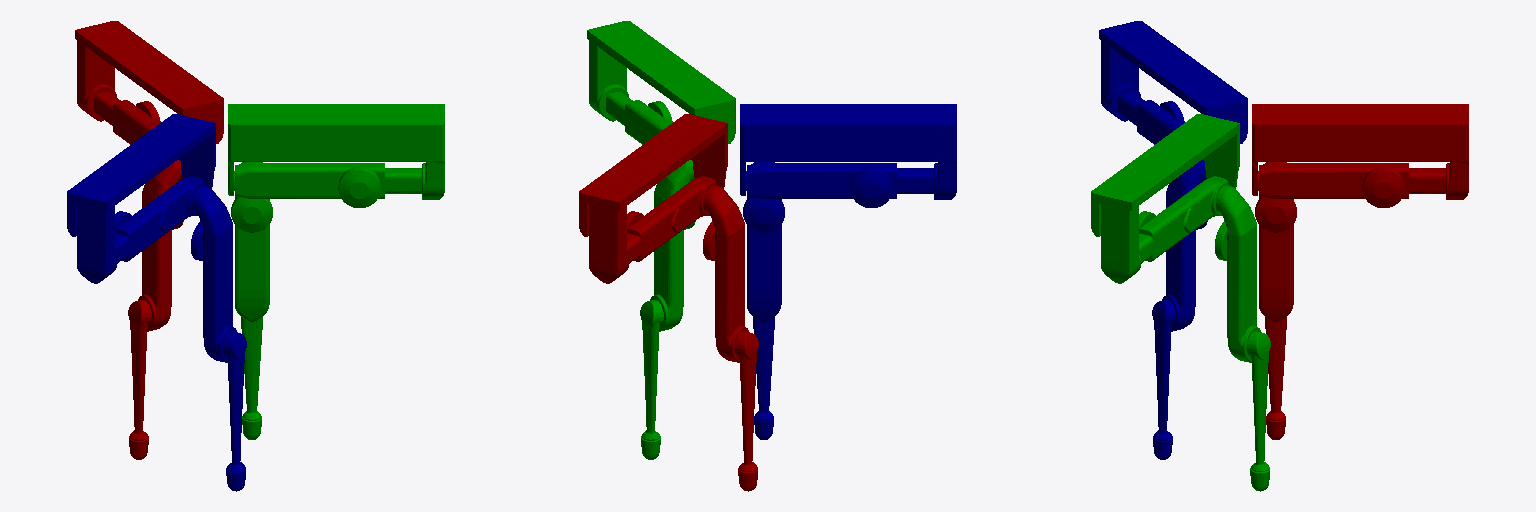
The robot description file, URDF, robot "trifingeredu":
<?xml version="1.0" encoding="utf-8"?>
<!-- =================================================================================== -->
<!-- |    This document was autogenerated by xacro from [local-path]/ws/fingers/workspace/src/catkin/robots/robot_properties/robot_properties_fingers/xacro/edu/trifingeredu.urdf.xacro | -->
<!-- |    EDITING THIS FILE BY HAND IS NOT RECOMMENDED                                 | -->
<!-- =================================================================================== -->
<robot name="trifingeredu">
  <!--
    Frames are defined such that they all align with the base frame when all
    joints are at position zero.

    In zero-configuration the origins of all joints are in one line.
    -->
  <!-- Define the global base_link and place all other objects relative to it. -->
  <link name="base_link">
    <inertial>
      <origin rpy="0 0 0" xyz="0 0 0"/>
      <mass value="1"/>
      <inertia ixx="4.16666666667e-06" ixy="0" ixz="0" iyy="4.16666666667e-06" iyz="0" izz="4.16666666667e-06"/>
    </inertial>
  </link>
  <!-- Define the upper holder -->
  <link name="trifinger_base_link">
    <inertial>
      <origin rpy="0 0 0" xyz="0 0 0"/>
      <mass value="1"/>
      <inertia ixx="4.16666666667e-06" ixy="0" ixz="0" iyy="4.16666666667e-06" iyz="0" izz="4.16666666667e-06"/>
    </inertial>
  </link>
  <joint name="base_to_trifinger_base_joint" type="fixed">
    <parent link="base_link"/>
    <child link="trifinger_base_link"/>
    <origin rpy="0 0 -1.57079632679" xyz="0 0 0.283"/>
  </joint>
  <material name="fingeredu_0_material">
    <color rgba="0.6 0.0 0.0 1.0"/>
  </material>
  <material name="fingeredu_120_material">
    <color rgba="0.0 0.6 0.0 1.0"/>
  </material>
  <material name="fingeredu_240_material">
    <color rgba="0.0 0.0 0.6 1.0"/>
  </material>
  <!--
        Fixed links for the finger base (parts where the upper link is mounted).
        -->
  <link name="finger_base_link_0">
    <visual>
      <origin rpy="0 0 0" xyz="-0.17995 0 0"/>
      <geometry>
        <mesh filename="package://robot_properties_fingers/meshes/stl/edu/base_back.obj" scale="1 1 1"/>
      </geometry>
      <material name="fingeredu_0_material"/>
    </visual>
    <collision>
      <origin rpy="0 0 0" xyz="-0.17995 0 0"/>
      <geometry>
        <mesh filename="package://robot_properties_fingers/meshes/stl/edu/base_back.obj" scale="1 1 1"/>
      </geometry>
    </collision>
    <visual>
      <origin rpy="0 0 0" xyz="0.0255 0 0"/>
      <geometry>
        <mesh filename="package://robot_properties_fingers/meshes/stl/edu/base_front.obj" scale="1 1 1"/>
      </geometry>
      <material name="fingeredu_0_material"/>
    </visual>
    <collision>
      <origin rpy="0 0 0" xyz="0.0255 0 0"/>
      <geometry>
        <mesh filename="package://robot_properties_fingers/meshes/stl/edu/base_front.obj" scale="1 1 1"/>
      </geometry>
    </collision>
    <visual>
      <origin rpy="0 0 0" xyz="0.0255 0.02 0.08"/>
      <geometry>
        <mesh filename="package://robot_properties_fingers/meshes/stl/edu/base_side_left.obj" scale="1 1 1"/>
      </geometry>
      <material name="fingeredu_0_material"/>
    </visual>
    <collision>
      <origin rpy="0 0 0" xyz="0.0255 0.02 0.08"/>
      <geometry>
        <mesh filename="package://robot_properties_fingers/meshes/stl/edu/base_side_left.obj" scale="1 1 1"/>
      </geometry>
    </collision>
    <!-- Disable this part.  It is not very relevant for collisions but
                 would cause trouble in pybullet due to its concavity.
            <xacro:add_geometry
                rpy="0 0 0"
                xyz="${offset_x_base_to_front} -0.02 ${offset_z_base_to_top}"
                mesh_file="${mesh_dir}/base_side_right.stl"
                material="${material}" />
            -->
    <visual>
      <origin rpy="0 0 0" xyz="0.0255 0 0.08"/>
      <geometry>
        <mesh filename="package://robot_properties_fingers/meshes/stl/edu/base_top.obj" scale="1 1 1"/>
      </geometry>
      <material name="fingeredu_0_material"/>
    </visual>
    <collision>
      <origin rpy="0 0 0" xyz="0.0255 0 0.08"/>
      <geometry>
        <mesh filename="package://robot_properties_fingers/meshes/stl/edu/base_top.obj" scale="1 1 1"/>
      </geometry>
    </collision>
    <inertial>
      <origin rpy="0 0 0" xyz="-0.1 0 0.4"/>
      <mass value="1"/>
      <inertia ixx="0.0608333333333" ixy="0" ixz="0" iyy="0.0566666666667" iyz="0" izz="0.0108333333333"/>
    </inertial>
  </link>
  <!-- The movable links (upper, middle and lower) of the finger. -->
  <!-- FIXME inertias are not correct! -->
  <link name="finger_upper_link_0">
    <visual>
      <origin rpy="0 0 0" xyz="0.0195 0 0"/>
      <geometry>
        <mesh filename="package://robot_properties_fingers/meshes/stl/edu/upper_link.obj" scale="1 1 1"/>
      </geometry>
      <material name="fingeredu_0_material"/>
    </visual>
    <collision>
      <origin rpy="0 0 0" xyz="0.0195 0 0"/>
      <geometry>
        <mesh filename="package://robot_properties_fingers/meshes/stl/edu/upper_link.obj" scale="1 1 1"/>
      </geometry>
    </collision>
    <inertial>
      <!-- Note: This uses the values from the middle link, assuming
                     that it is similar enough. -->
      <!-- CoM is only estimated based -->
      <origin rpy="0 0 0" xyz="-0.079 0 0"/>
      <mass value="0.14854"/>
      <inertia ixx="0.00003" ixy="0.00005" ixz="0.00000" iyy="0.00041" iyz="0.00000" izz="0.00041"/>
    </inertial>
  </link>
  <link name="finger_middle_link_0">
    <visual>
      <origin rpy="0 0 0" xyz="0 0 0"/>
      <geometry>
        <mesh filename="package://robot_properties_fingers/meshes/stl/edu/middle_link.obj" scale="1 1 1"/>
      </geometry>
      <material name="fingeredu_0_material"/>
    </visual>
    <collision>
      <origin rpy="0 0 0" xyz="0 0 0"/>
      <geometry>
        <mesh filename="package://robot_properties_fingers/meshes/stl/edu/middle_link.obj" scale="1 1 1"/>
      </geometry>
    </collision>
    <inertial>
      <origin rpy="0 0 0" xyz="0 -0.019 -0.079"/>
      <mass value="0.14854"/>
      <inertia ixx="0.00041" ixy="0.00000" ixz="0.00000" iyy="0.00041" iyz="0.00005" izz="0.00003"/>
    </inertial>
  </link>
  <link name="finger_lower_link_0">
    <visual>
      <origin rpy="0 0 0" xyz="0 0 0"/>
      <geometry>
        <mesh filename="package://robot_properties_fingers/meshes/stl/edu/lower_link.obj" scale="1 1 1"/>
      </geometry>
      <material name="fingeredu_0_material"/>
    </visual>
    <collision>
      <origin rpy="0 0 0" xyz="0 0 0"/>
      <geometry>
        <mesh filename="package://robot_properties_fingers/meshes/stl/edu/lower_link.obj" scale="1 1 1"/>
      </geometry>
    </collision>
    <!-- TODO: these are the interial values from the Solo lower leg
                 link which is similar but not exactly the same to the FingerEdu
                 lower link. -->
    <inertial>
      <origin rpy="0 0 0" xyz="0 -0.009 -0.089"/>
      <mass value="0.03070"/>
      <inertia ixx="0.00012" ixy="0.00000" ixz="0.00000" iyy="0.00012" iyz="0.00000" izz="0.00000"/>
    </inertial>
  </link>
  <!-- fixed link for finger tip -->
  <link name="finger_tip_link_0">
    <inertial>
      <origin rpy="0 0 0" xyz="0 0 0"/>
      <mass value="0.01"/>
      <inertia ixx="1.66666666667e-07" ixy="0" ixz="0" iyy="1.66666666667e-07" iyz="0" izz="1.66666666667e-07"/>
    </inertial>
  </link>
  <joint name="finger_lower_to_tip_joint_0" type="fixed">
    <parent link="finger_lower_link_0"/>
    <child link="finger_tip_link_0"/>
    <origin xyz="0 -0.008 -0.16"/>
  </joint>
  <!-- kinematics -->
  <joint name="finger_base_to_upper_joint_0" type="revolute">
    <parent link="finger_base_link_0"/>
    <child link="finger_upper_link_0"/>
    <limit effort="1000" lower="-1.57079632679" upper="1.57079632679" velocity="1000"/>
    <axis xyz="-1 0 0"/>
    <origin rpy="0 0 0" xyz="0 0 0"/>
  </joint>
  <joint name="finger_upper_to_middle_joint_0" type="revolute">
    <parent link="finger_upper_link_0"/>
    <child link="finger_middle_link_0"/>
    <limit effort="1000" lower="-1.57079632679" upper="1.57079632679" velocity="1000"/>
    <axis xyz="0 1 0"/>
    <origin rpy="0 0 0" xyz="0 -0.014 0"/>
  </joint>
  <joint name="finger_middle_to_lower_joint_0" type="revolute">
    <parent link="finger_middle_link_0"/>
    <child link="finger_lower_link_0"/>
    <limit effort="1000" lower="-3.14159265359" upper="3.14159265359" velocity="1000"/>
    <axis xyz="0 1 0"/>
    <origin rpy="0 0 0" xyz="0 -0.03745 -0.16"/>
  </joint>
  <!--
        Fixed links for the finger base (parts where the upper link is mounted).
        -->
  <link name="finger_base_link_120">
    <visual>
      <origin rpy="0 0 0" xyz="-0.17995 0 0"/>
      <geometry>
        <mesh filename="package://robot_properties_fingers/meshes/stl/edu/base_back.obj" scale="1 1 1"/>
      </geometry>
      <material name="fingeredu_120_material"/>
    </visual>
    <collision>
      <origin rpy="0 0 0" xyz="-0.17995 0 0"/>
      <geometry>
        <mesh filename="package://robot_properties_fingers/meshes/stl/edu/base_back.obj" scale="1 1 1"/>
      </geometry>
    </collision>
    <visual>
      <origin rpy="0 0 0" xyz="0.0255 0 0"/>
      <geometry>
        <mesh filename="package://robot_properties_fingers/meshes/stl/edu/base_front.obj" scale="1 1 1"/>
      </geometry>
      <material name="fingeredu_120_material"/>
    </visual>
    <collision>
      <origin rpy="0 0 0" xyz="0.0255 0 0"/>
      <geometry>
        <mesh filename="package://robot_properties_fingers/meshes/stl/edu/base_front.obj" scale="1 1 1"/>
      </geometry>
    </collision>
    <visual>
      <origin rpy="0 0 0" xyz="0.0255 0.02 0.08"/>
      <geometry>
        <mesh filename="package://robot_properties_fingers/meshes/stl/edu/base_side_left.obj" scale="1 1 1"/>
      </geometry>
      <material name="fingeredu_120_material"/>
    </visual>
    <collision>
      <origin rpy="0 0 0" xyz="0.0255 0.02 0.08"/>
      <geometry>
        <mesh filename="package://robot_properties_fingers/meshes/stl/edu/base_side_left.obj" scale="1 1 1"/>
      </geometry>
    </collision>
    <!-- Disable this part.  It is not very relevant for collisions but
                 would cause trouble in pybullet due to its concavity.
            <xacro:add_geometry
                rpy="0 0 0"
                xyz="${offset_x_base_to_front} -0.02 ${offset_z_base_to_top}"
                mesh_file="${mesh_dir}/base_side_right.stl"
                material="${material}" />
            -->
    <visual>
      <origin rpy="0 0 0" xyz="0.0255 0 0.08"/>
      <geometry>
        <mesh filename="package://robot_properties_fingers/meshes/stl/edu/base_top.obj" scale="1 1 1"/>
      </geometry>
      <material name="fingeredu_120_material"/>
    </visual>
    <collision>
      <origin rpy="0 0 0" xyz="0.0255 0 0.08"/>
      <geometry>
        <mesh filename="package://robot_properties_fingers/meshes/stl/edu/base_top.obj" scale="1 1 1"/>
      </geometry>
    </collision>
    <inertial>
      <origin rpy="0 0 0" xyz="-0.1 0 0.4"/>
      <mass value="1"/>
      <inertia ixx="0.0608333333333" ixy="0" ixz="0" iyy="0.0566666666667" iyz="0" izz="0.0108333333333"/>
    </inertial>
  </link>
  <!-- The movable links (upper, middle and lower) of the finger. -->
  <!-- FIXME inertias are not correct! -->
  <link name="finger_upper_link_120">
    <visual>
      <origin rpy="0 0 0" xyz="0.0195 0 0"/>
      <geometry>
        <mesh filename="package://robot_properties_fingers/meshes/stl/edu/upper_link.obj" scale="1 1 1"/>
      </geometry>
      <material name="fingeredu_120_material"/>
    </visual>
    <collision>
      <origin rpy="0 0 0" xyz="0.0195 0 0"/>
      <geometry>
        <mesh filename="package://robot_properties_fingers/meshes/stl/edu/upper_link.obj" scale="1 1 1"/>
      </geometry>
    </collision>
    <inertial>
      <!-- Note: This uses the values from the middle link, assuming
                     that it is similar enough. -->
      <!-- CoM is only estimated based -->
      <origin rpy="0 0 0" xyz="-0.079 0 0"/>
      <mass value="0.14854"/>
      <inertia ixx="0.00003" ixy="0.00005" ixz="0.00000" iyy="0.00041" iyz="0.00000" izz="0.00041"/>
    </inertial>
  </link>
  <link name="finger_middle_link_120">
    <visual>
      <origin rpy="0 0 0" xyz="0 0 0"/>
      <geometry>
        <mesh filename="package://robot_properties_fingers/meshes/stl/edu/middle_link.obj" scale="1 1 1"/>
      </geometry>
      <material name="fingeredu_120_material"/>
    </visual>
    <collision>
      <origin rpy="0 0 0" xyz="0 0 0"/>
      <geometry>
        <mesh filename="package://robot_properties_fingers/meshes/stl/edu/middle_link.obj" scale="1 1 1"/>
      </geometry>
    </collision>
    <inertial>
      <origin rpy="0 0 0" xyz="0 -0.019 -0.079"/>
      <mass value="0.14854"/>
      <inertia ixx="0.00041" ixy="0.00000" ixz="0.00000" iyy="0.00041" iyz="0.00005" izz="0.00003"/>
    </inertial>
  </link>
  <link name="finger_lower_link_120">
    <visual>
      <origin rpy="0 0 0" xyz="0 0 0"/>
      <geometry>
        <mesh filename="package://robot_properties_fingers/meshes/stl/edu/lower_link.obj" scale="1 1 1"/>
      </geometry>
      <material name="fingeredu_120_material"/>
    </visual>
    <collision>
      <origin rpy="0 0 0" xyz="0 0 0"/>
      <geometry>
        <mesh filename="package://robot_properties_fingers/meshes/stl/edu/lower_link.obj" scale="1 1 1"/>
      </geometry>
    </collision>
    <!-- TODO: these are the interial values from the Solo lower leg
                 link which is similar but not exactly the same to the FingerEdu
                 lower link. -->
    <inertial>
      <origin rpy="0 0 0" xyz="0 -0.009 -0.089"/>
      <mass value="0.03070"/>
      <inertia ixx="0.00012" ixy="0.00000" ixz="0.00000" iyy="0.00012" iyz="0.00000" izz="0.00000"/>
    </inertial>
  </link>
  <!-- fixed link for finger tip -->
  <link name="finger_tip_link_120">
    <inertial>
      <origin rpy="0 0 0" xyz="0 0 0"/>
      <mass value="0.01"/>
      <inertia ixx="1.66666666667e-07" ixy="0" ixz="0" iyy="1.66666666667e-07" iyz="0" izz="1.66666666667e-07"/>
    </inertial>
  </link>
  <joint name="finger_lower_to_tip_joint_120" type="fixed">
    <parent link="finger_lower_link_120"/>
    <child link="finger_tip_link_120"/>
    <origin xyz="0 -0.008 -0.16"/>
  </joint>
  <!-- kinematics -->
  <joint name="finger_base_to_upper_joint_120" type="revolute">
    <parent link="finger_base_link_120"/>
    <child link="finger_upper_link_120"/>
    <limit effort="1000" lower="-1.57079632679" upper="1.57079632679" velocity="1000"/>
    <axis xyz="-1 0 0"/>
    <origin rpy="0 0 0" xyz="0 0 0"/>
  </joint>
  <joint name="finger_upper_to_middle_joint_120" type="revolute">
    <parent link="finger_upper_link_120"/>
    <child link="finger_middle_link_120"/>
    <limit effort="1000" lower="-1.57079632679" upper="1.57079632679" velocity="1000"/>
    <axis xyz="0 1 0"/>
    <origin rpy="0 0 0" xyz="0 -0.014 0"/>
  </joint>
  <joint name="finger_middle_to_lower_joint_120" type="revolute">
    <parent link="finger_middle_link_120"/>
    <child link="finger_lower_link_120"/>
    <limit effort="1000" lower="-3.14159265359" upper="3.14159265359" velocity="1000"/>
    <axis xyz="0 1 0"/>
    <origin rpy="0 0 0" xyz="0 -0.03745 -0.16"/>
  </joint>
  <!--
        Fixed links for the finger base (parts where the upper link is mounted).
        -->
  <link name="finger_base_link_240">
    <visual>
      <origin rpy="0 0 0" xyz="-0.17995 0 0"/>
      <geometry>
        <mesh filename="package://robot_properties_fingers/meshes/stl/edu/base_back.obj" scale="1 1 1"/>
      </geometry>
      <material name="fingeredu_240_material"/>
    </visual>
    <collision>
      <origin rpy="0 0 0" xyz="-0.17995 0 0"/>
      <geometry>
        <mesh filename="package://robot_properties_fingers/meshes/stl/edu/base_back.obj" scale="1 1 1"/>
      </geometry>
    </collision>
    <visual>
      <origin rpy="0 0 0" xyz="0.0255 0 0"/>
      <geometry>
        <mesh filename="package://robot_properties_fingers/meshes/stl/edu/base_front.obj" scale="1 1 1"/>
      </geometry>
      <material name="fingeredu_240_material"/>
    </visual>
    <collision>
      <origin rpy="0 0 0" xyz="0.0255 0 0"/>
      <geometry>
        <mesh filename="package://robot_properties_fingers/meshes/stl/edu/base_front.obj" scale="1 1 1"/>
      </geometry>
    </collision>
    <visual>
      <origin rpy="0 0 0" xyz="0.0255 0.02 0.08"/>
      <geometry>
        <mesh filename="package://robot_properties_fingers/meshes/stl/edu/base_side_left.obj" scale="1 1 1"/>
      </geometry>
      <material name="fingeredu_240_material"/>
    </visual>
    <collision>
      <origin rpy="0 0 0" xyz="0.0255 0.02 0.08"/>
      <geometry>
        <mesh filename="package://robot_properties_fingers/meshes/stl/edu/base_side_left.obj" scale="1 1 1"/>
      </geometry>
    </collision>
    <!-- Disable this part.  It is not very relevant for collisions but
                 would cause trouble in pybullet due to its concavity.
            <xacro:add_geometry
                rpy="0 0 0"
                xyz="${offset_x_base_to_front} -0.02 ${offset_z_base_to_top}"
                mesh_file="${mesh_dir}/base_side_right.stl"
                material="${material}" />
            -->
    <visual>
      <origin rpy="0 0 0" xyz="0.0255 0 0.08"/>
      <geometry>
        <mesh filename="package://robot_properties_fingers/meshes/stl/edu/base_top.obj" scale="1 1 1"/>
      </geometry>
      <material name="fingeredu_240_material"/>
    </visual>
    <collision>
      <origin rpy="0 0 0" xyz="0.0255 0 0.08"/>
      <geometry>
        <mesh filename="package://robot_properties_fingers/meshes/stl/edu/base_top.obj" scale="1 1 1"/>
      </geometry>
    </collision>
    <inertial>
      <origin rpy="0 0 0" xyz="-0.1 0 0.4"/>
      <mass value="1"/>
      <inertia ixx="0.0608333333333" ixy="0" ixz="0" iyy="0.0566666666667" iyz="0" izz="0.0108333333333"/>
    </inertial>
  </link>
  <!-- The movable links (upper, middle and lower) of the finger. -->
  <!-- FIXME inertias are not correct! -->
  <link name="finger_upper_link_240">
    <visual>
      <origin rpy="0 0 0" xyz="0.0195 0 0"/>
      <geometry>
        <mesh filename="package://robot_properties_fingers/meshes/stl/edu/upper_link.obj" scale="1 1 1"/>
      </geometry>
      <material name="fingeredu_240_material"/>
    </visual>
    <collision>
      <origin rpy="0 0 0" xyz="0.0195 0 0"/>
      <geometry>
        <mesh filename="package://robot_properties_fingers/meshes/stl/edu/upper_link.obj" scale="1 1 1"/>
      </geometry>
    </collision>
    <inertial>
      <!-- Note: This uses the values from the middle link, assuming
                     that it is similar enough. -->
      <!-- CoM is only estimated based -->
      <origin rpy="0 0 0" xyz="-0.079 0 0"/>
      <mass value="0.14854"/>
      <inertia ixx="0.00003" ixy="0.00005" ixz="0.00000" iyy="0.00041" iyz="0.00000" izz="0.00041"/>
    </inertial>
  </link>
  <link name="finger_middle_link_240">
    <visual>
      <origin rpy="0 0 0" xyz="0 0 0"/>
      <geometry>
        <mesh filename="package://robot_properties_fingers/meshes/stl/edu/middle_link.obj" scale="1 1 1"/>
      </geometry>
      <material name="fingeredu_240_material"/>
    </visual>
    <collision>
      <origin rpy="0 0 0" xyz="0 0 0"/>
      <geometry>
        <mesh filename="package://robot_properties_fingers/meshes/stl/edu/middle_link.obj" scale="1 1 1"/>
      </geometry>
    </collision>
    <inertial>
      <origin rpy="0 0 0" xyz="0 -0.019 -0.079"/>
      <mass value="0.14854"/>
      <inertia ixx="0.00041" ixy="0.00000" ixz="0.00000" iyy="0.00041" iyz="0.00005" izz="0.00003"/>
    </inertial>
  </link>
  <link name="finger_lower_link_240">
    <visual>
      <origin rpy="0 0 0" xyz="0 0 0"/>
      <geometry>
        <mesh filename="package://robot_properties_fingers/meshes/stl/edu/lower_link.obj" scale="1 1 1"/>
      </geometry>
      <material name="fingeredu_240_material"/>
    </visual>
    <collision>
      <origin rpy="0 0 0" xyz="0 0 0"/>
      <geometry>
        <mesh filename="package://robot_properties_fingers/meshes/stl/edu/lower_link.obj" scale="1 1 1"/>
      </geometry>
    </collision>
    <!-- TODO: these are the interial values from the Solo lower leg
                 link which is similar but not exactly the same to the FingerEdu
                 lower link. -->
    <inertial>
      <origin rpy="0 0 0" xyz="0 -0.009 -0.089"/>
      <mass value="0.03070"/>
      <inertia ixx="0.00012" ixy="0.00000" ixz="0.00000" iyy="0.00012" iyz="0.00000" izz="0.00000"/>
    </inertial>
  </link>
  <!-- fixed link for finger tip -->
  <link name="finger_tip_link_240">
    <inertial>
      <origin rpy="0 0 0" xyz="0 0 0"/>
      <mass value="0.01"/>
      <inertia ixx="1.66666666667e-07" ixy="0" ixz="0" iyy="1.66666666667e-07" iyz="0" izz="1.66666666667e-07"/>
    </inertial>
  </link>
  <joint name="finger_lower_to_tip_joint_240" type="fixed">
    <parent link="finger_lower_link_240"/>
    <child link="finger_tip_link_240"/>
    <origin xyz="0 -0.008 -0.16"/>
  </joint>
  <!-- kinematics -->
  <joint name="finger_base_to_upper_joint_240" type="revolute">
    <parent link="finger_base_link_240"/>
    <child link="finger_upper_link_240"/>
    <limit effort="1000" lower="-1.57079632679" upper="1.57079632679" velocity="1000"/>
    <axis xyz="-1 0 0"/>
    <origin rpy="0 0 0" xyz="0 0 0"/>
  </joint>
  <joint name="finger_upper_to_middle_joint_240" type="revolute">
    <parent link="finger_upper_link_240"/>
    <child link="finger_middle_link_240"/>
    <limit effort="1000" lower="-1.57079632679" upper="1.57079632679" velocity="1000"/>
    <axis xyz="0 1 0"/>
    <origin rpy="0 0 0" xyz="0 -0.014 0"/>
  </joint>
  <joint name="finger_middle_to_lower_joint_240" type="revolute">
    <parent link="finger_middle_link_240"/>
    <child link="finger_lower_link_240"/>
    <limit effort="1000" lower="-3.14159265359" upper="3.14159265359" velocity="1000"/>
    <axis xyz="0 1 0"/>
    <origin rpy="0 0 0" xyz="0 -0.03745 -0.16"/>
  </joint>
  <joint name="base_to_finger_0" type="fixed">
    <parent link="trifinger_base_link"/>
    <child link="finger_base_link_0"/>
    <origin rpy="0 0 0" xyz="-0.0455 0.0 0"/>
  </joint>
  <joint name="base_to_finger_120" type="fixed">
    <parent link="trifinger_base_link"/>
    <child link="finger_base_link_120"/>
    <origin rpy="0 0 -2.09439510239" xyz="0.02275 0.0394041558722 0"/>
  </joint>
  <joint name="base_to_finger_240" type="fixed">
    <parent link="trifinger_base_link"/>
    <child link="finger_base_link_240"/>
    <origin rpy="0 0 -4.18879020479" xyz="0.02275 -0.0394041558722 0"/>
  </joint>
</robot>

--- What the picture shows (computed from the rendered views, not written in the file) ---
The picture shows the robot from 3 angles, left to right: view 1: azimuth 30°, elevation 25°; view 2: azimuth 150°, elevation 25°; view 3: azimuth 270°, elevation 25°; orthographic projection.
Model trifingeredu with 17 links and 16 joints (9 revolute, 7 fixed), rooted at base_link, posed every joint at zero.
Links seen in each view (by area): view 1: finger_base_link_120, finger_base_link_240, finger_base_link_0, finger_upper_link_120, finger_middle_link_240, finger_middle_link_120, finger_upper_link_240, finger_middle_link_0, finger_lower_link_0, finger_lower_link_240, finger_upper_link_0, finger_lower_link_120; view 2: finger_base_link_240, finger_base_link_0, finger_base_link_120, finger_upper_link_240, finger_middle_link_0, finger_middle_link_240, finger_upper_link_0, finger_middle_link_120, finger_lower_link_0, finger_lower_link_120, finger_upper_link_120, finger_lower_link_240; view 3: finger_base_link_0, finger_base_link_120, finger_base_link_240, finger_upper_link_0, finger_middle_link_120, finger_middle_link_0, finger_upper_link_120, finger_middle_link_240, finger_lower_link_120, finger_lower_link_240, finger_upper_link_240, finger_lower_link_0.
Link boxes in pixels (<box>): finger_base_link_120: <box>228,104,444,199</box>; finger_base_link_240: <box>67,114,215,283</box>; finger_base_link_0: <box>75,21,223,143</box>; finger_upper_link_120: <box>234,162,421,207</box>; finger_middle_link_240: <box>191,185,236,362</box>; finger_middle_link_120: <box>231,197,272,321</box>; finger_upper_link_240: <box>115,176,205,263</box>; finger_middle_link_0: <box>138,160,183,331</box>; finger_lower_link_0: <box>128,300,151,459</box>; finger_lower_link_240: <box>223,331,246,491</box>; finger_upper_link_0: <box>94,92,160,144</box>; finger_lower_link_120: <box>241,317,262,439</box>; finger_base_link_240: <box>740,104,956,199</box>; finger_base_link_0: <box>579,114,727,283</box>; finger_base_link_120: <box>587,21,735,143</box>; finger_upper_link_240: <box>746,162,933,207</box>; finger_middle_link_0: <box>703,185,748,362</box>; finger_middle_link_240: <box>743,197,784,321</box>; finger_upper_link_0: <box>627,176,717,263</box>; finger_middle_link_120: <box>650,160,695,331</box>; finger_lower_link_0: <box>735,331,758,491</box>; finger_lower_link_120: <box>640,300,663,459</box>; finger_upper_link_120: <box>606,92,672,144</box>; finger_lower_link_240: <box>753,317,774,439</box>; finger_base_link_0: <box>1252,104,1468,199</box>; finger_base_link_120: <box>1091,114,1239,283</box>; finger_base_link_240: <box>1099,21,1247,143</box>; finger_upper_link_0: <box>1258,162,1445,207</box>; finger_middle_link_120: <box>1215,185,1260,362</box>; finger_middle_link_0: <box>1255,197,1296,321</box>; finger_upper_link_120: <box>1139,176,1229,263</box>; finger_middle_link_240: <box>1162,160,1207,331</box>; finger_lower_link_120: <box>1247,331,1270,491</box>; finger_lower_link_240: <box>1152,300,1175,459</box>; finger_upper_link_240: <box>1118,92,1184,144</box>; finger_lower_link_0: <box>1265,317,1286,439</box>.
Bounding box of the posed robot: 0.4561 × 0.3995 × 0.4095 m (x, y, z).
Meshes: 7 distinct files referenced, 21 mesh visuals loaded (7 OBJ).
